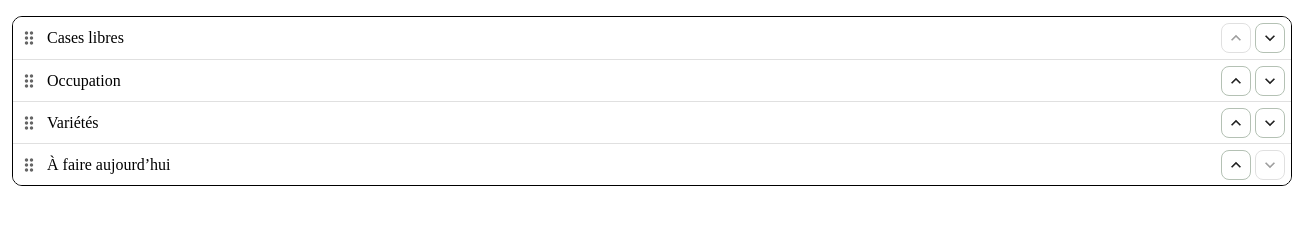
ReorderableList — ▲ ▼ at the keyboard › ▲ moves the row up one place, SAYS its new place — and the focus stays on ▲
Click the button named "Monter « Variétés »" at (1236, 122), box [1221,108,1251,138]
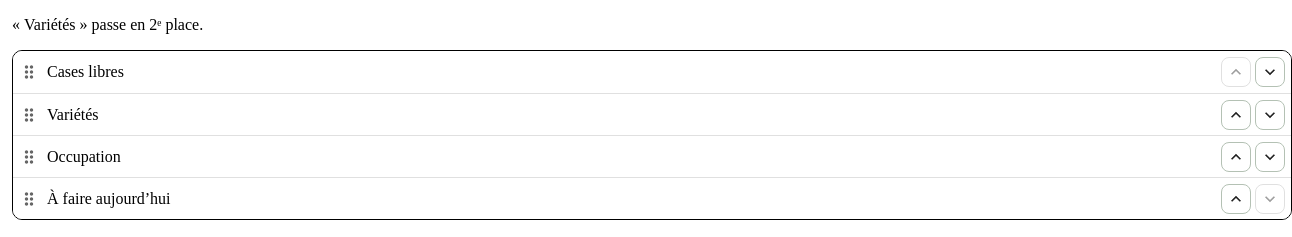
Expected: the message "« Variétés » passe en 2ᵉ place." is shown, [12,16,203,33]
